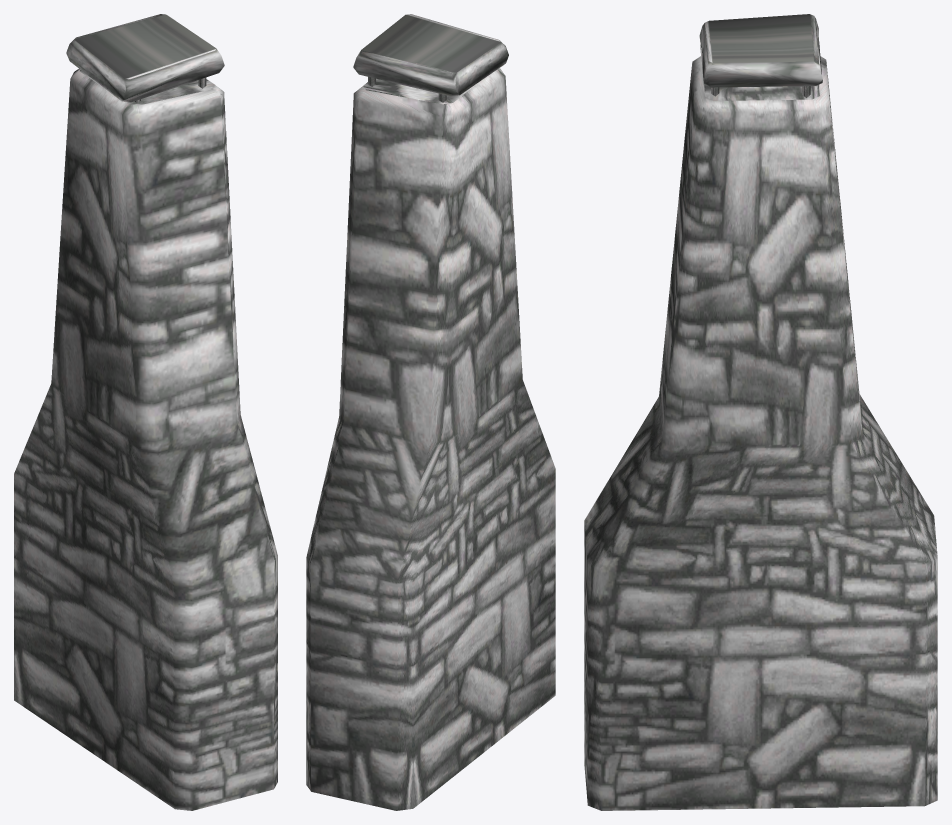
Rendered from HTOWN01_GREENDRAGROOFCHIM1.fbx.
The picture shows the model from 3 angles, left to right: view 1: azimuth 30°, elevation 25°; view 2: azimuth 150°, elevation 25°; view 3: azimuth 270°, elevation 25°; orthographic projection. The views are drawn at different scales.
Parts seen in each view (by area): view 1: HTOWN01_GREENDRAGROOFCHIM1; view 2: HTOWN01_GREENDRAGROOFCHIM1; view 3: HTOWN01_GREENDRAGROOFCHIM1.
Part boxes in pixels (<box>): HTOWN01_GREENDRAGROOFCHIM1: <box>14,14,277,810</box>; HTOWN01_GREENDRAGROOFCHIM1: <box>306,14,555,810</box>; HTOWN01_GREENDRAGROOFCHIM1: <box>584,14,937,810</box>.
Size of the model in its own units: 8873 by 51790 by 22336.
1 material, 1 textured.
